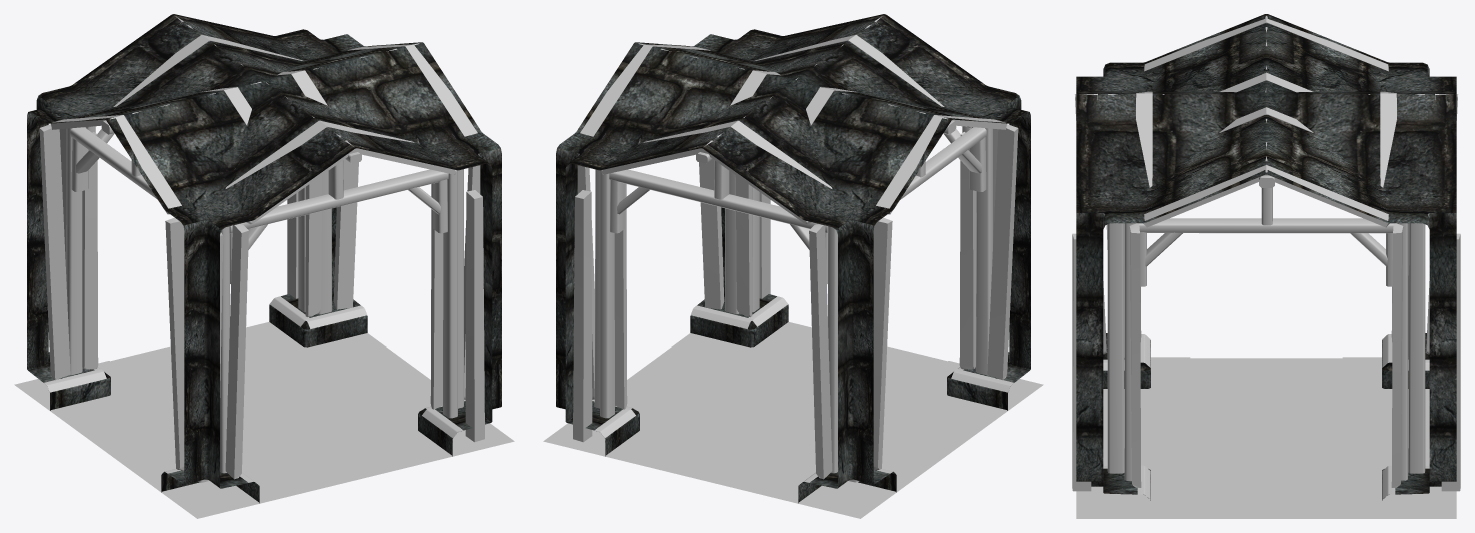
The model's file is tunnel_X_castle_reinforced_nest.dae.
3 renders of one model, left to right at view 1: azimuth 30°, elevation 25°; view 2: azimuth 150°, elevation 25°; view 3: azimuth 270°, elevation 25°, orthographic. The views are drawn at different scales.
Visible parts, largest first — view 1: tunnel_X_reinforced, tunnel_X_reinforced_wooden_fence, tunnel_X_reinforced_floor_brick_trim, tunnel_X_reinforced_decal_edge_damage; view 2: tunnel_X_reinforced, tunnel_X_reinforced_wooden_fence, tunnel_X_reinforced_floor_brick_trim, tunnel_X_reinforced_decal_edge_damage; view 3: tunnel_X_reinforced, tunnel_X_reinforced_wooden_fence, tunnel_X_reinforced_floor_brick_trim, tunnel_X_reinforced_decal_edge_damage.
Boxes of the visible parts, x1=… form: tunnel_X_reinforced: x1=14, y1=14, x2=514, y2=518; tunnel_X_reinforced_wooden_fence: x1=39, y1=16, x2=484, y2=482; tunnel_X_reinforced_floor_brick_trim: x1=47, y1=322, x2=457, y2=504; tunnel_X_reinforced_decal_edge_damage: x1=44, y1=296, x2=465, y2=482; tunnel_X_reinforced: x1=543, y1=14, x2=1043, y2=518; tunnel_X_reinforced_wooden_fence: x1=573, y1=16, x2=1018, y2=482; tunnel_X_reinforced_floor_brick_trim: x1=600, y1=322, x2=1010, y2=504; tunnel_X_reinforced_decal_edge_damage: x1=592, y1=296, x2=1013, y2=482; tunnel_X_reinforced: x1=1076, y1=14, x2=1456, y2=518; tunnel_X_reinforced_wooden_fence: x1=1072, y1=16, x2=1460, y2=491; tunnel_X_reinforced_floor_brick_trim: x1=1091, y1=357, x2=1441, y2=518; tunnel_X_reinforced_decal_edge_damage: x1=1103, y1=334, x2=1429, y2=499.
Size of what is drawn, in the model's own units: 3.53 by 3.51 by 3.58.
